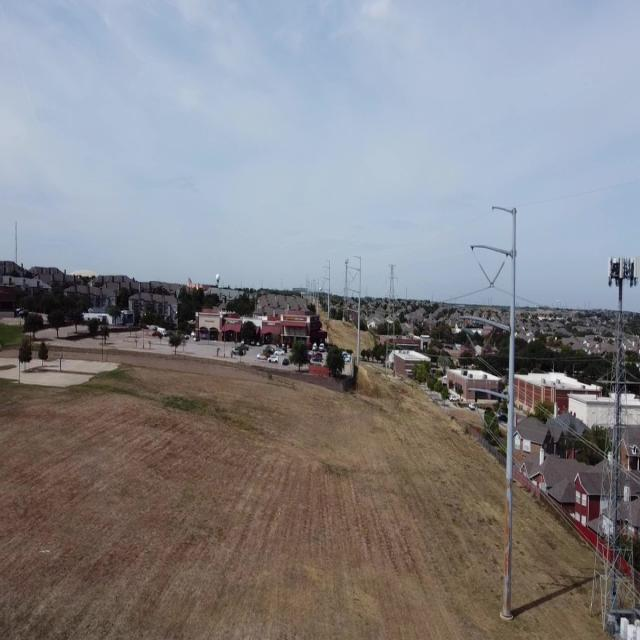杆塔: (578, 270, 640, 640), (384, 260, 399, 377), (340, 256, 350, 324)
正常绝缘子: (485, 252, 511, 297), (462, 320, 484, 365), (474, 251, 496, 294), (484, 399, 505, 435), (476, 328, 496, 365), (471, 400, 491, 434)
